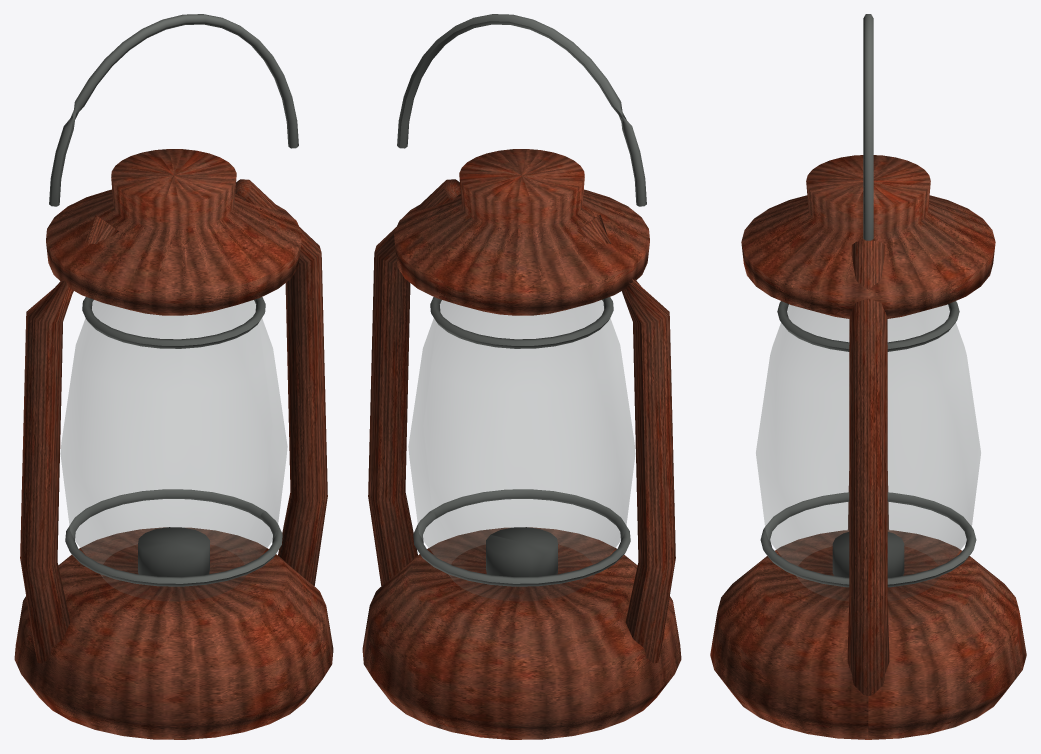
The model's file is prop_lantern.glb.
3 renders of one model, left to right at view 1: azimuth 30°, elevation 25°; view 2: azimuth 150°, elevation 25°; view 3: azimuth 270°, elevation 25°, orthographic.
Visible parts, largest first — view 1: prop_lantern; view 2: prop_lantern; view 3: prop_lantern.
Boxes of the visible parts, x1,y1,x2,y2 form: prop_lantern: (14, 14, 333, 739); prop_lantern: (362, 14, 681, 739); prop_lantern: (710, 14, 1026, 739).
Bounding box in the file's own units: 0.144 × 0.3 × 0.1313.
Materials: 3 (1 with a texture image).
